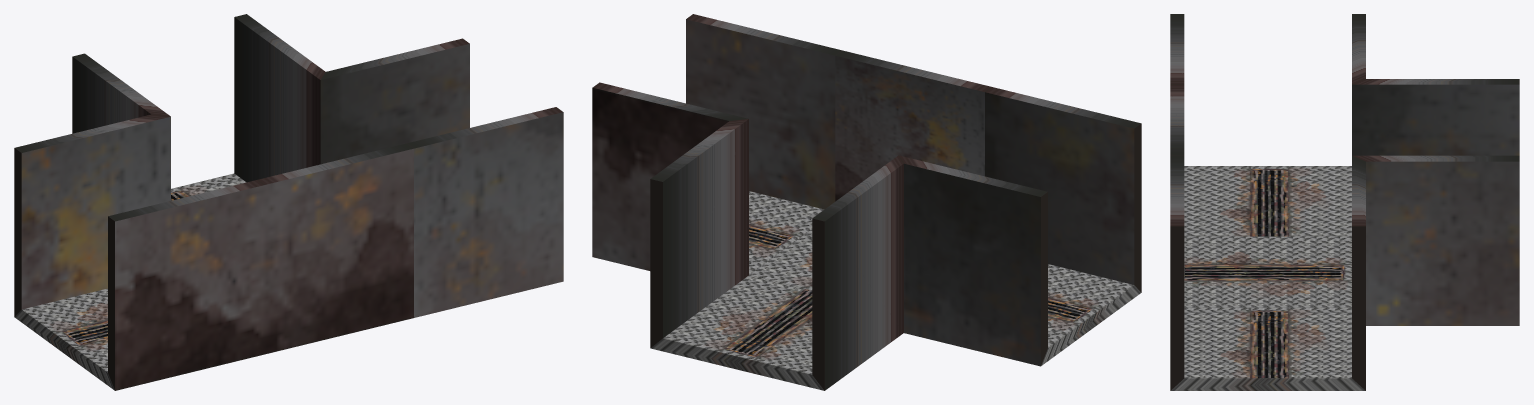
Rendered from Corridor.005.fbx.
3 views of the same model, side by side, from view 1: azimuth 30°, elevation 25°; view 2: azimuth 150°, elevation 25°; view 3: azimuth 270°, elevation 25° (orthographic). The views are drawn at different scales.
Parts seen in each view (by area): view 1: Corridor.005; view 2: Corridor.005; view 3: Corridor.005.
Boxes of the visible parts, <box> form: Corridor.005: <box>14,14,563,390</box>; Corridor.005: <box>592,14,1141,390</box>; Corridor.005: <box>1170,14,1519,390</box>.
Size of the model in its own units: 1800 by 650 by 1250.
